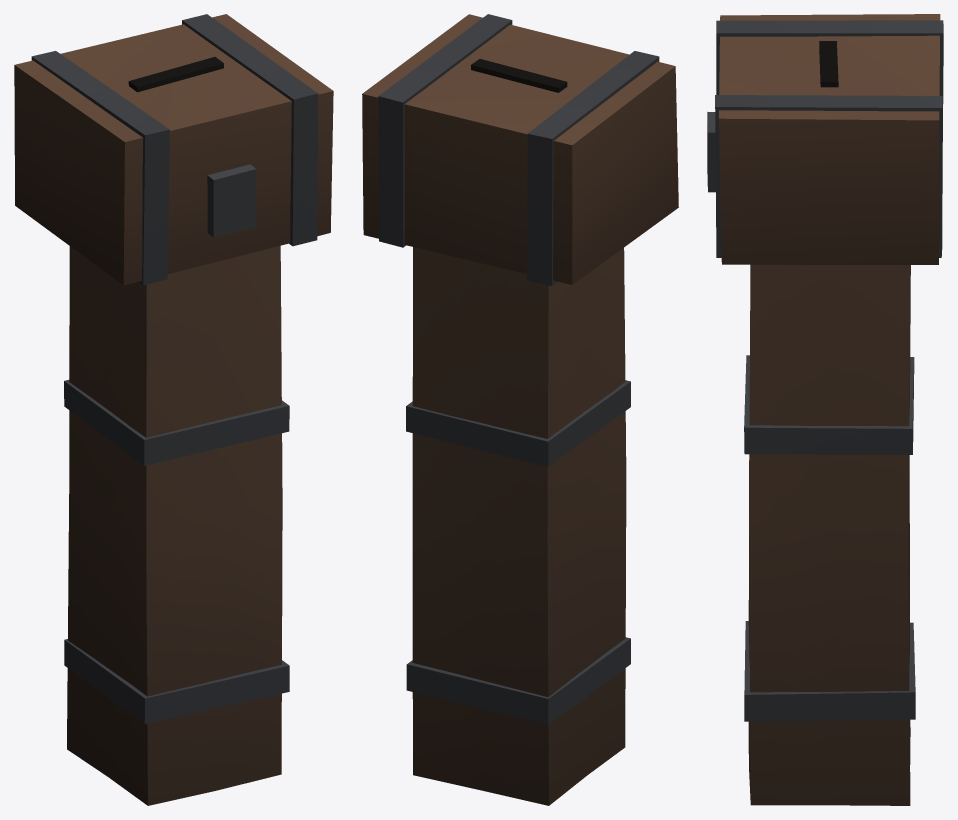
File: ph_int_church_poor_box.glb
3 renders of one model, left to right at view 1: azimuth 30°, elevation 25°; view 2: azimuth 150°, elevation 25°; view 3: azimuth 270°, elevation 25°, orthographic. The views are drawn at different scales.
Visible parts, largest first — view 1: ph_int_church_poor_box; view 2: ph_int_church_poor_box; view 3: ph_int_church_poor_box.
Boxes of the visible parts, <box> form: ph_int_church_poor_box: <box>14,14,333,805</box>; ph_int_church_poor_box: <box>362,14,678,805</box>; ph_int_church_poor_box: <box>707,14,943,805</box>.
Bounding box in the file's own units: 0.3431 × 1.07 × 0.3233.
